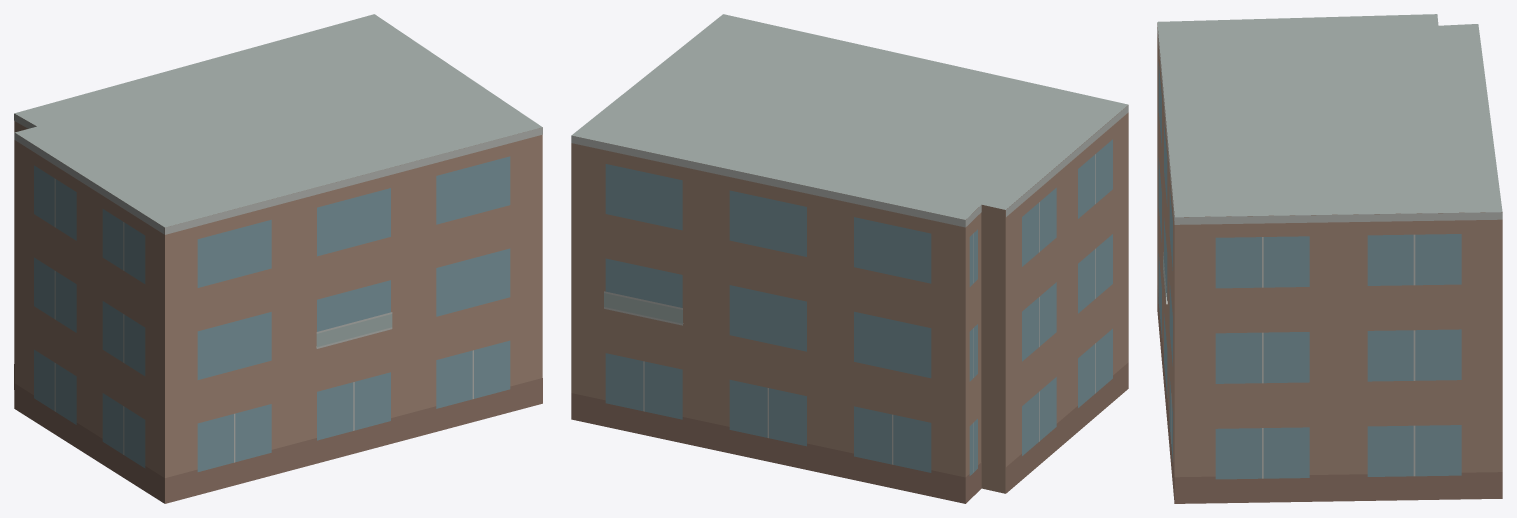
The model's file is survey-upis-32700548.glb.
3 renders of one model, left to right at view 1: azimuth 30°, elevation 25°; view 2: azimuth 150°, elevation 25°; view 3: azimuth 270°, elevation 25°, orthographic. The views are drawn at different scales.
Parts seen in each view (by area): view 1: survey-upis-32700548.tmp; view 2: survey-upis-32700548.tmp; view 3: survey-upis-32700548.tmp.
Boxes of the visible parts, x1=… form: survey-upis-32700548.tmp: x1=14, y1=14, x2=542, y2=503; survey-upis-32700548.tmp: x1=571, y1=14, x2=1128, y2=503; survey-upis-32700548.tmp: x1=1157, y1=14, x2=1502, y2=503.
Bounding box in the file's own units: 13.93 × 9.15 × 10.
